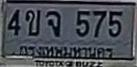4: (7, 8, 19, 35)
5: (108, 10, 122, 36), (75, 10, 89, 36)
7: (92, 10, 106, 37)
A02: (25, 9, 40, 35)
A08: (45, 10, 60, 36)
BKK: (19, 43, 114, 60)
